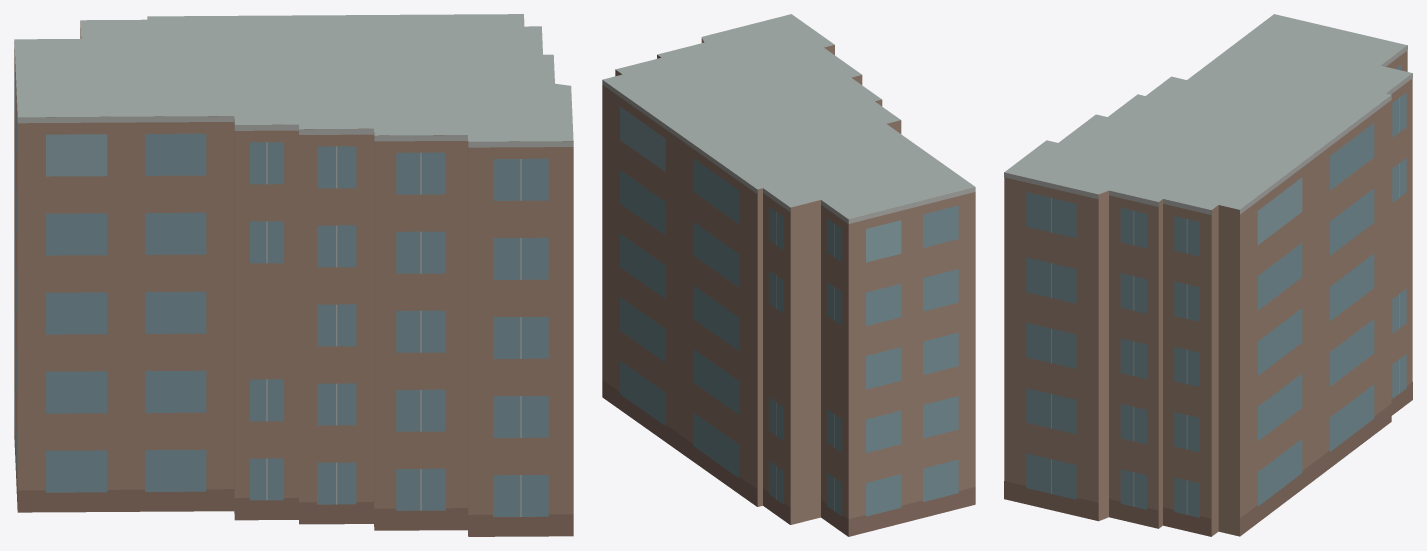
Rendered from survey-upis-32582654.glb.
The picture shows the model from 3 angles, left to right: view 1: azimuth 30°, elevation 25°; view 2: azimuth 150°, elevation 25°; view 3: azimuth 270°, elevation 25°; orthographic projection. The views are drawn at different scales.
Visible parts, largest first — view 1: survey-upis-32582654.tmp; view 2: survey-upis-32582654.tmp; view 3: survey-upis-32582654.tmp.
Boxes of the visible parts, left/top/right/bottom form: survey-upis-32582654.tmp: left=14, top=14, right=573, bottom=536; survey-upis-32582654.tmp: left=602, top=14, right=975, bottom=536; survey-upis-32582654.tmp: left=1004, top=14, right=1412, bottom=536.
Size of the model in its own units: 21 by 16.3 by 18.49.
